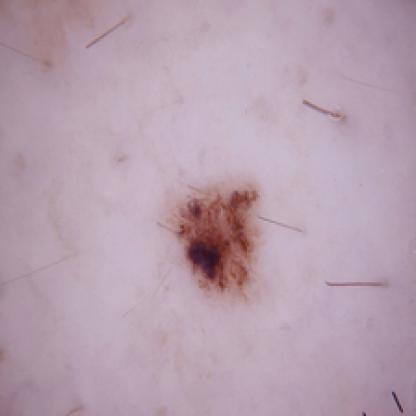benign: (167, 171, 271, 295)
